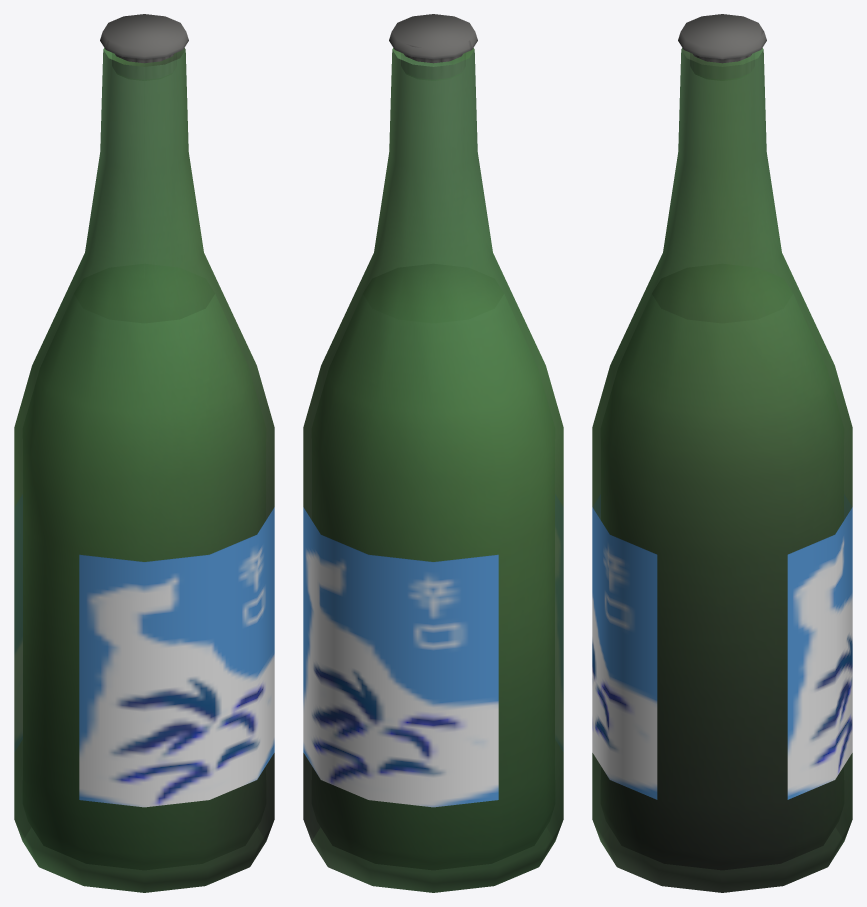
Rendered from sake01a.fbx.
The picture shows the model from 3 angles, left to right: view 1: azimuth 30°, elevation 25°; view 2: azimuth 150°, elevation 25°; view 3: azimuth 270°, elevation 25°; orthographic projection.
Visible parts, largest first — view 1: sake01a; view 2: sake01a; view 3: sake01a.
Boxes of the visible parts, <box> form: sake01a: <box>14,14,274,892</box>; sake01a: <box>303,14,563,892</box>; sake01a: <box>592,14,852,892</box>.
Size of the model in its own units: 13.37 by 45.94 by 13.37.
